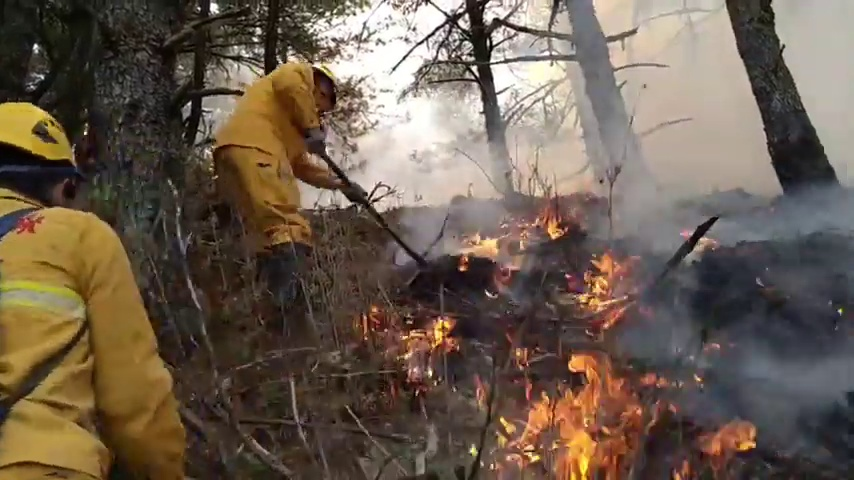fire: (493, 349, 624, 480), (578, 252, 616, 311), (709, 418, 753, 454), (428, 315, 454, 341), (481, 235, 496, 249), (548, 217, 559, 235)
